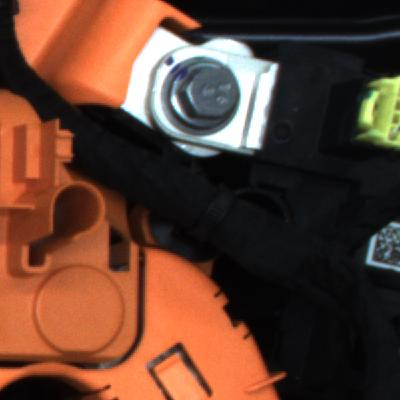nut_b: (158, 55, 259, 127)
